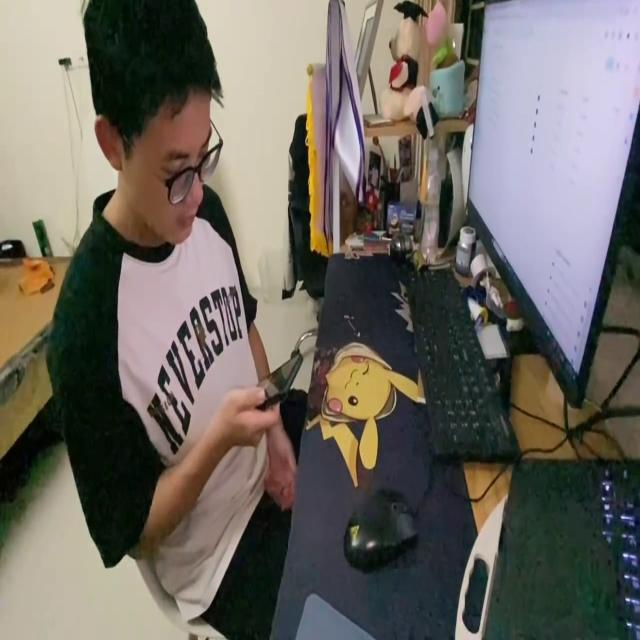laptop: (464, 0, 640, 419)
phone: (246, 340, 304, 415)
student: (46, 0, 307, 589)
